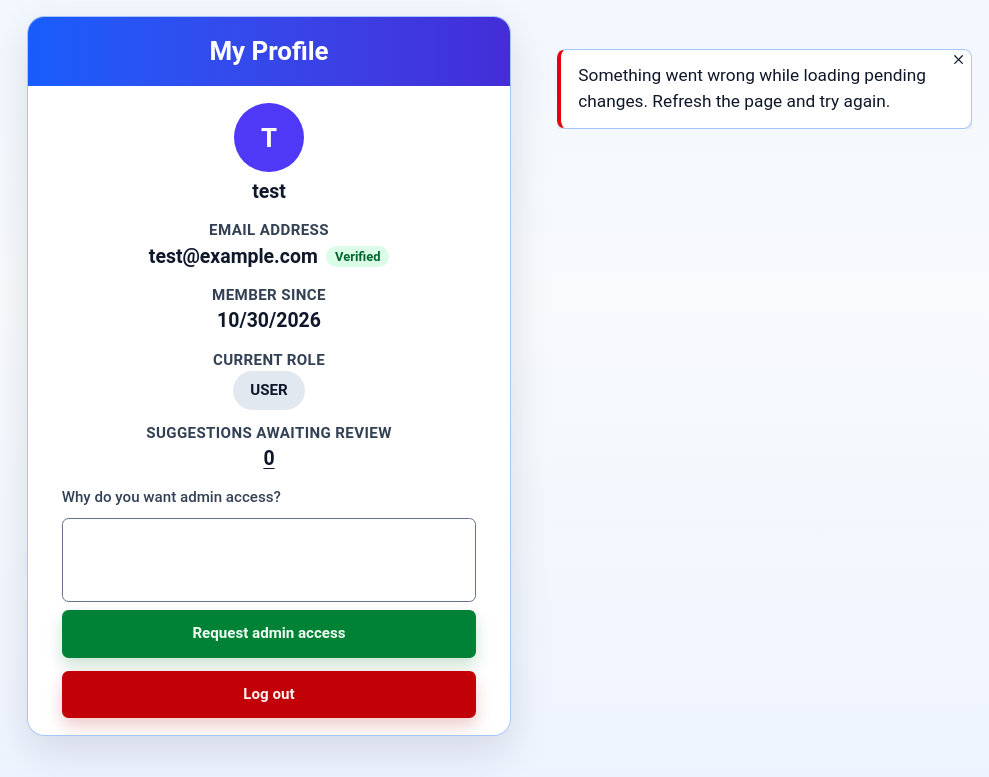
Test: Profile Component admin request › shows an error notification when the request fails
The image size is (989, 777).
Click the button "Request admin access": (269, 634) [62,610,476,658]
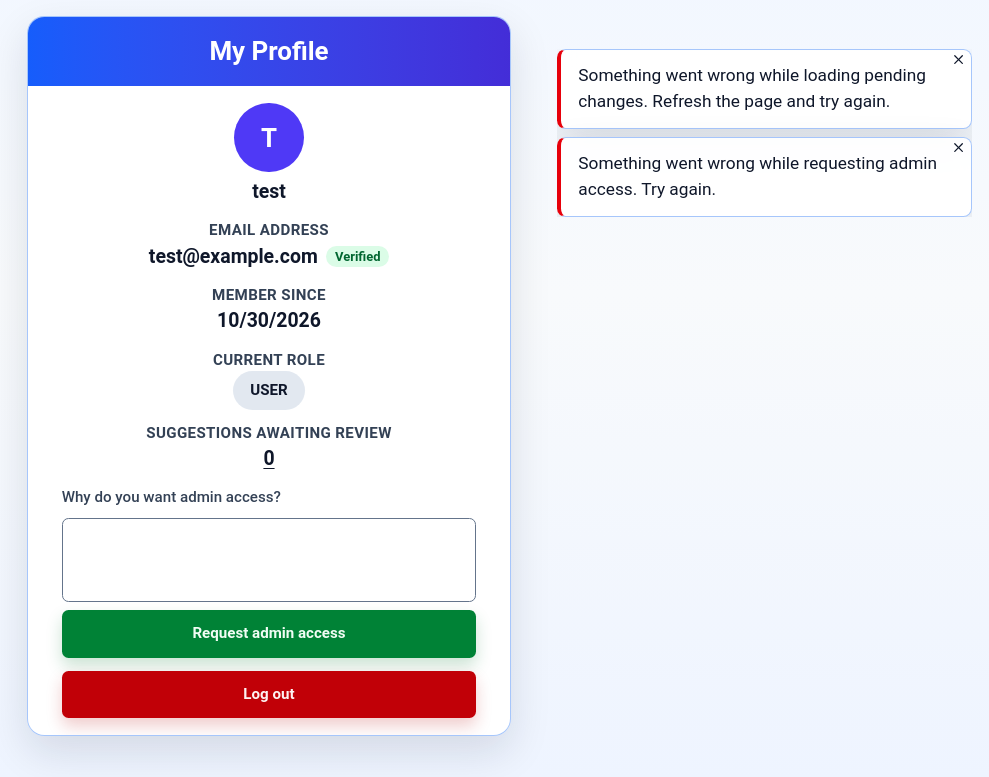
Now the text "Something went wrong while requesting admin access." is shown, box [578,153,937,199]
